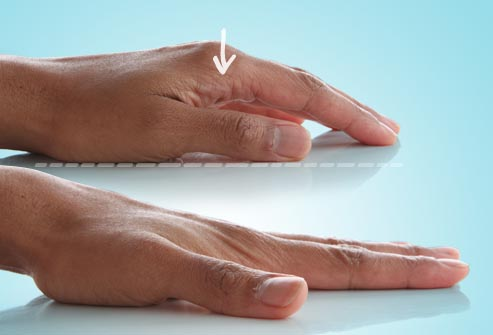finger: (204, 48, 400, 145), (234, 231, 478, 285), (277, 231, 461, 273)
